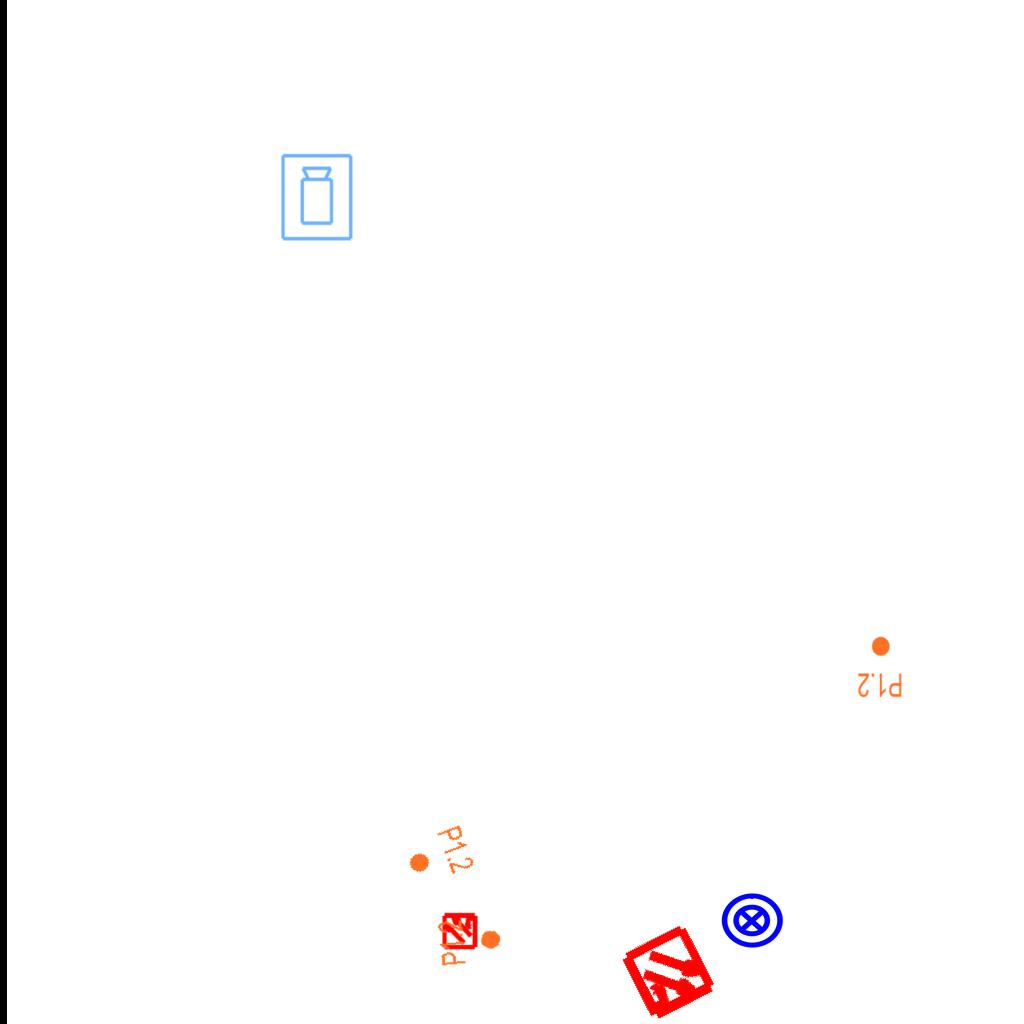Downlight_LED_Einbauleuchten_Flur: (400, 823, 478, 889), (435, 914, 505, 968), (857, 635, 903, 699)
KFO_Kamera_mit_Festobjektiv: (279, 152, 356, 243)
OT_Multisensormelder_(Kombination_RMO_WMD): (593, 898, 746, 1024), (432, 902, 488, 958)
Taster_beleuchtet: (719, 888, 785, 954)
